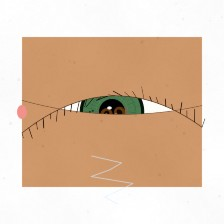foreign_body_visible: (79, 110, 106, 132)
